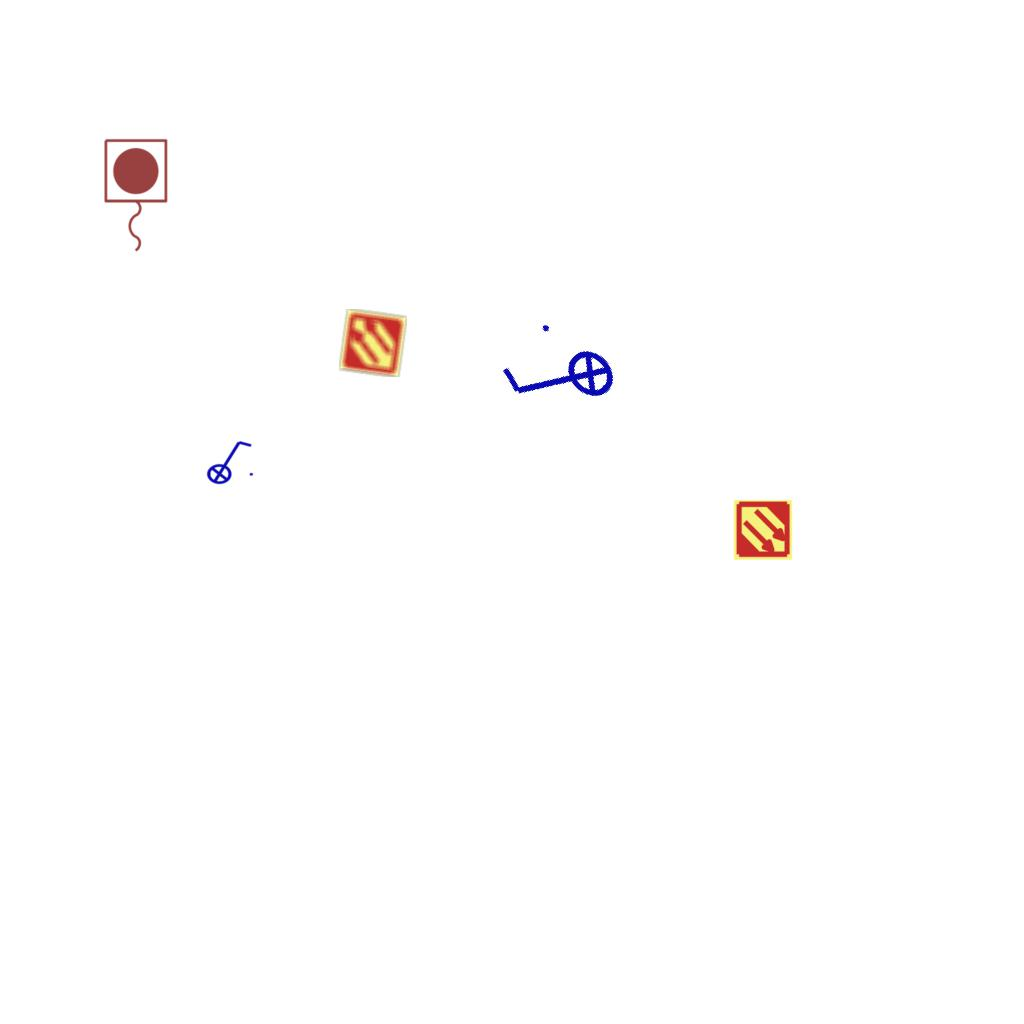ASR_Ansaugrauchmelder: (337, 307, 409, 379), (732, 499, 794, 561)
Ausschalter_beleuchtet: (486, 306, 634, 454), (200, 437, 256, 485)
Zugtaster: (99, 135, 171, 257)
